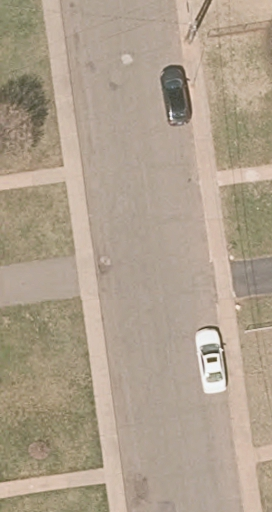DT: (183, 1, 210, 46)
